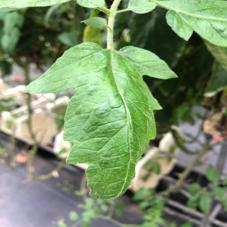Healthy: (18, 43, 180, 199)
